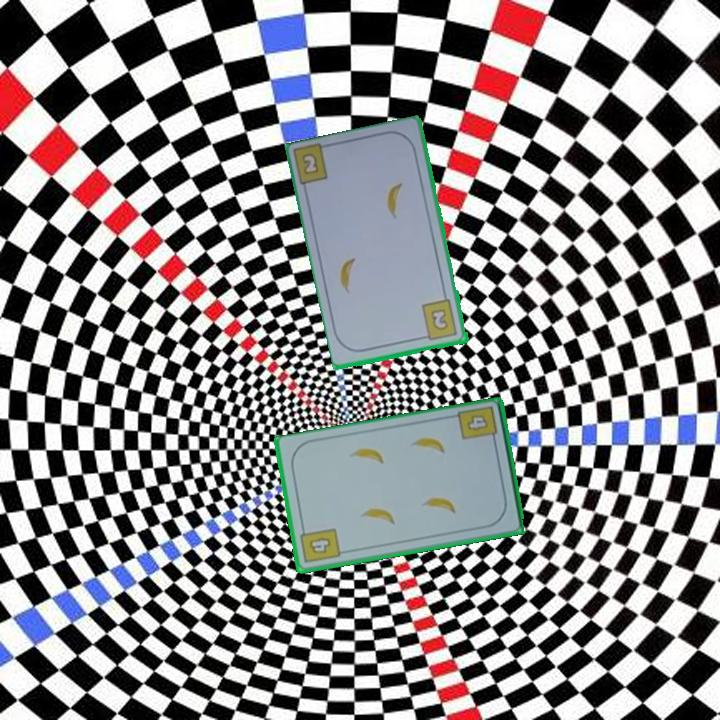2b: (418, 296, 461, 343), (298, 149, 322, 178)
4b: (455, 403, 500, 447), (297, 523, 343, 566)
